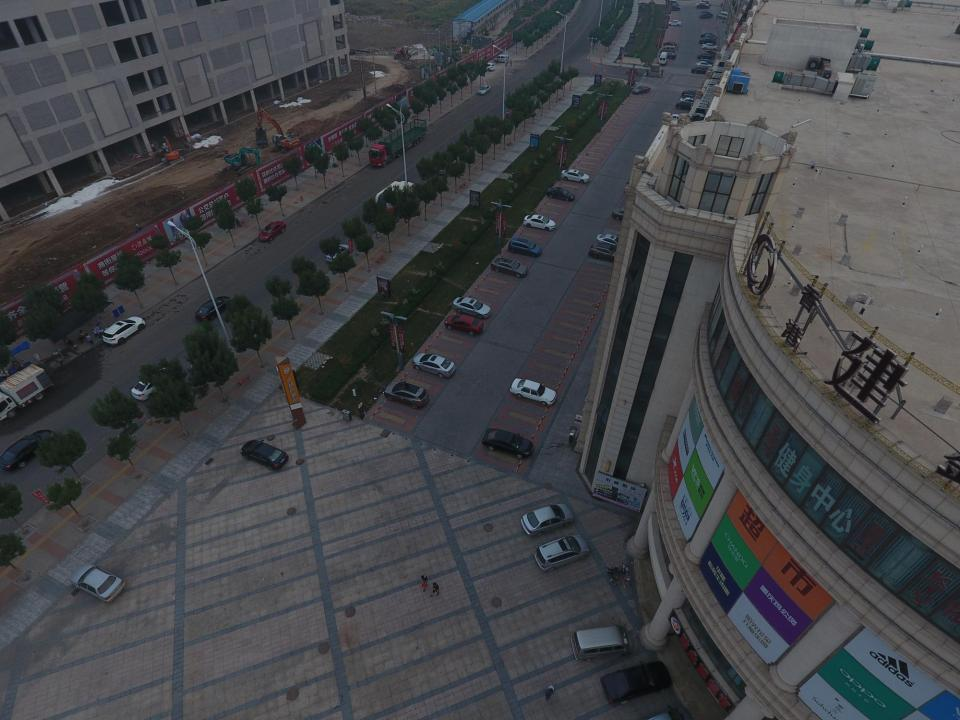car: (600, 660, 672, 705), (68, 562, 126, 604), (0, 428, 55, 470), (534, 534, 589, 573), (520, 502, 574, 536), (131, 366, 180, 402), (239, 439, 289, 471), (482, 428, 534, 458), (510, 377, 557, 406), (384, 380, 429, 410), (103, 316, 146, 345), (412, 352, 455, 378), (194, 296, 233, 321), (452, 296, 492, 318), (588, 242, 627, 264), (444, 314, 484, 335), (491, 258, 528, 277), (508, 237, 542, 257), (258, 221, 286, 242), (523, 214, 556, 231), (595, 234, 628, 251), (611, 206, 644, 223), (325, 244, 351, 263), (560, 168, 590, 184), (546, 186, 575, 202), (676, 100, 698, 112), (632, 84, 651, 94), (692, 66, 712, 74), (697, 52, 716, 60), (479, 62, 495, 71), (679, 98, 697, 106), (682, 89, 700, 97), (695, 61, 712, 69), (659, 52, 676, 60), (478, 85, 490, 95), (700, 58, 714, 66), (702, 43, 718, 50), (699, 50, 717, 56), (699, 38, 716, 44), (666, 4, 680, 11), (700, 32, 716, 38), (663, 41, 677, 47), (695, 2, 709, 8), (668, 20, 681, 26), (700, 11, 713, 17), (506, 109, 514, 118), (704, 34, 716, 40), (699, 13, 711, 19), (697, 3, 708, 9), (698, 2, 710, 7)
truck: (0, 363, 54, 426), (368, 119, 426, 167), (432, 154, 460, 175), (253, 128, 269, 147)
van: (570, 622, 632, 662), (374, 180, 416, 217), (670, 114, 688, 124), (682, 94, 699, 103), (658, 52, 668, 66), (496, 54, 509, 64), (660, 45, 675, 53), (718, 11, 730, 20), (665, 0, 679, 7), (700, 0, 711, 5)
